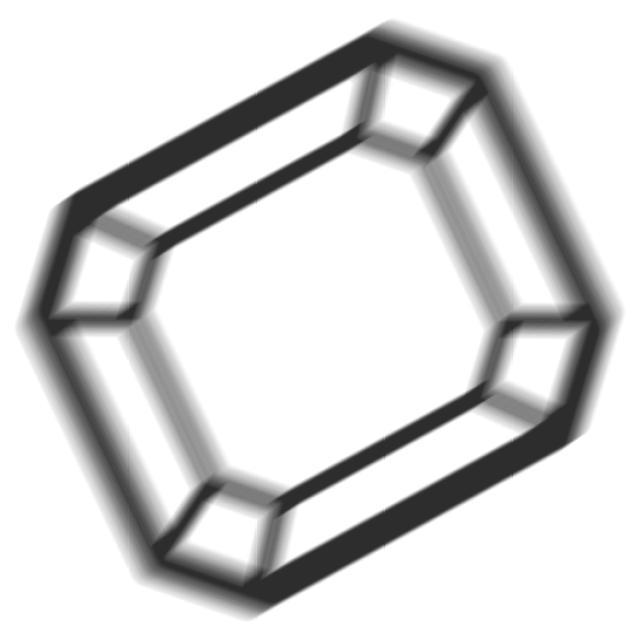emerald: (10, 17, 627, 633)
